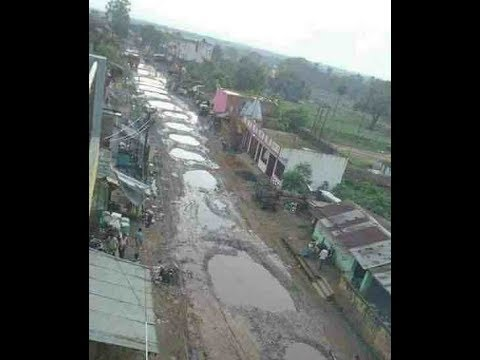pothole: (198, 236, 299, 322), (179, 165, 231, 228), (263, 325, 323, 359), (157, 125, 196, 145), (164, 144, 205, 161), (137, 79, 170, 99), (152, 104, 191, 117)
